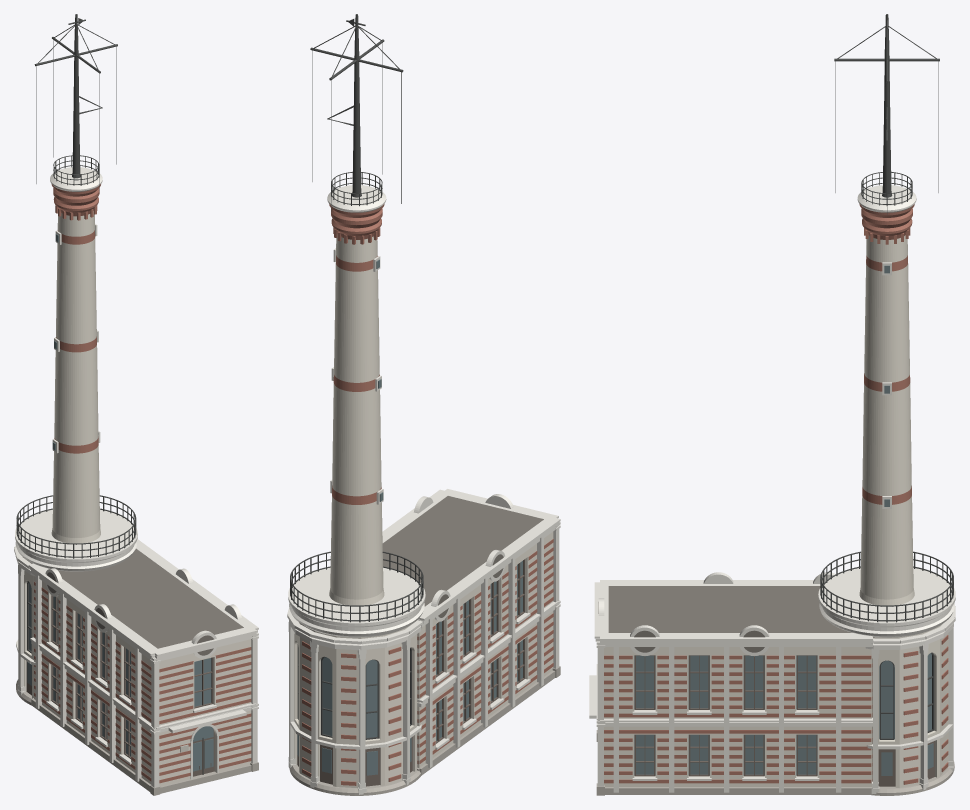
File: huangpu-bund-signal-tower-raw.glb
The picture shows the model from 3 angles, left to right: view 1: azimuth 30°, elevation 25°; view 2: azimuth 150°, elevation 25°; view 3: azimuth 270°, elevation 25°; orthographic projection. The views are drawn at different scales.
Parts seen in each view (by area): view 1: 外滩信号台（现址塔身、号杆与站房）; view 2: 外滩信号台（现址塔身、号杆与站房）; view 3: 外滩信号台（现址塔身、号杆与站房）.
Boxes of the visible parts, x1,y1,x2,y2 form: 外滩信号台（现址塔身、号杆与站房）: (14, 14, 258, 795); 外滩信号台（现址塔身、号杆与站房）: (287, 14, 560, 795); 外滩信号台（现址塔身、号杆与站房）: (589, 14, 955, 795).
Size of the model in its own units: 7.96 by 47.4 by 20.92.
